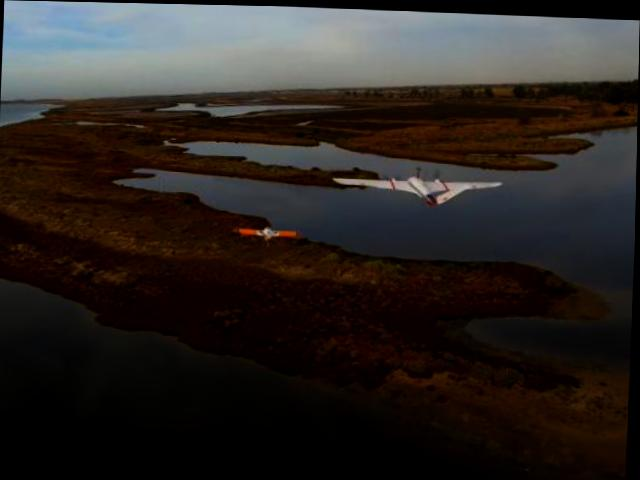uav: (334, 168, 503, 205), (234, 221, 300, 243)
